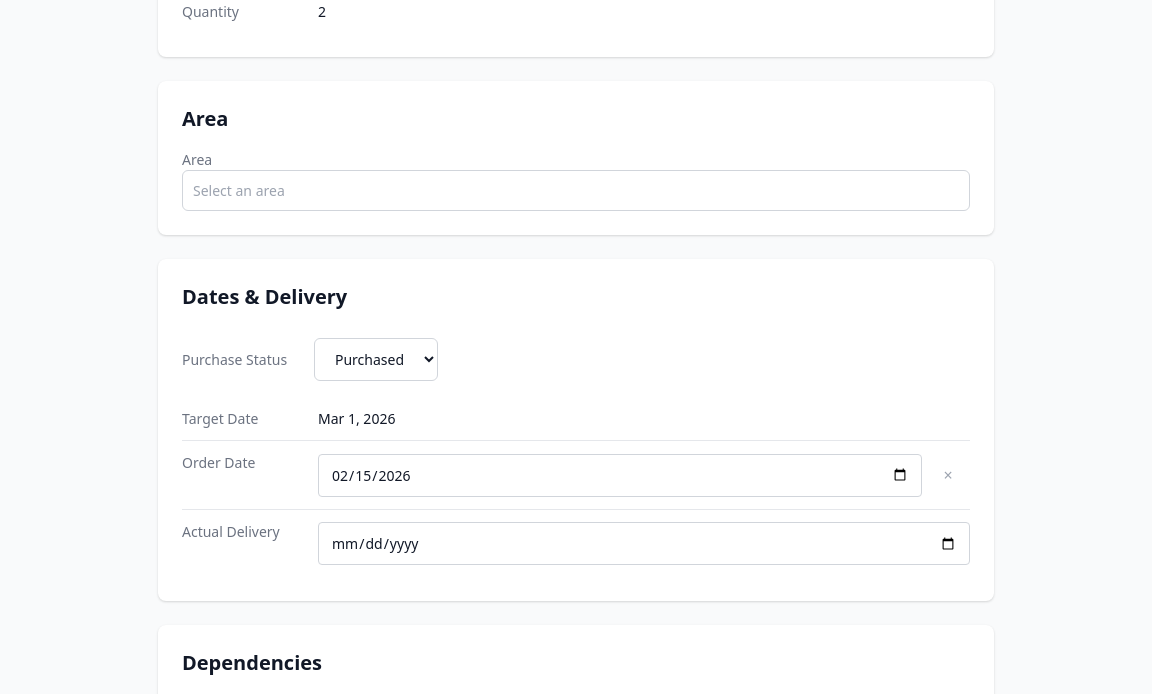
Test: HouseholdItemDetailPage › inline status selector › shows inline error on API failure
The width and height of the screenshot is (1152, 694).
(page scrolled)
Select "Arrived" in the dropdown labelled "Purchase Status": (376, 360) [314,338,438,381]
(page scrolled)
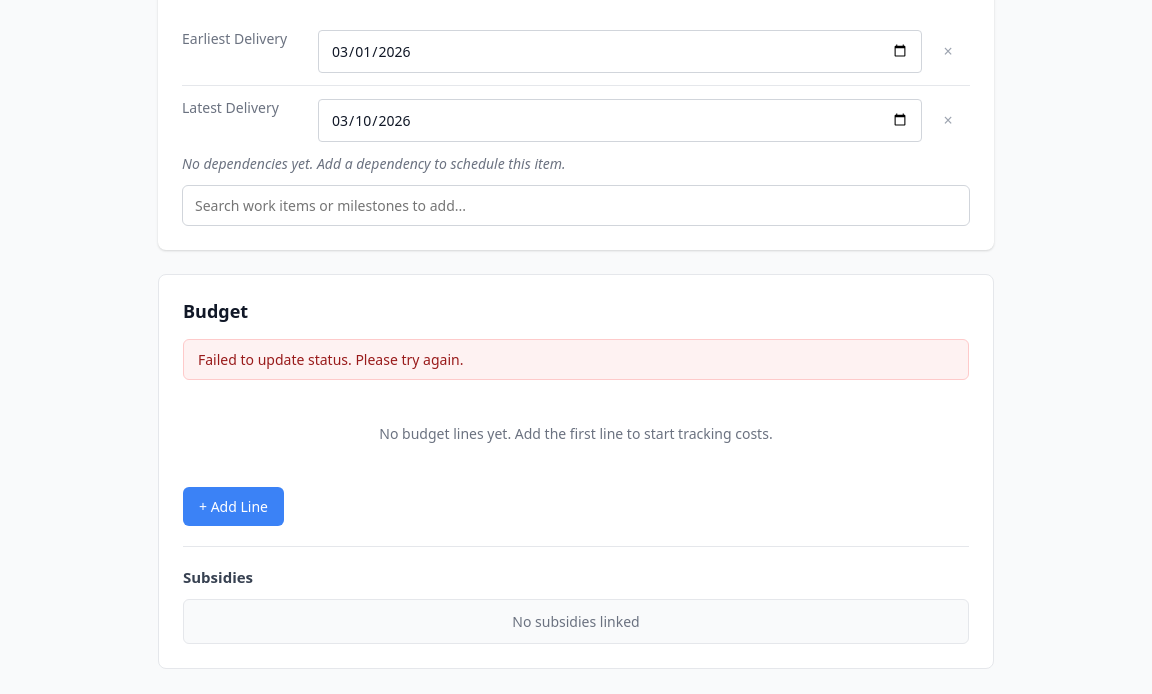
Now the text "Failed to update status. Please try again." is shown, box [183,339,969,380]
